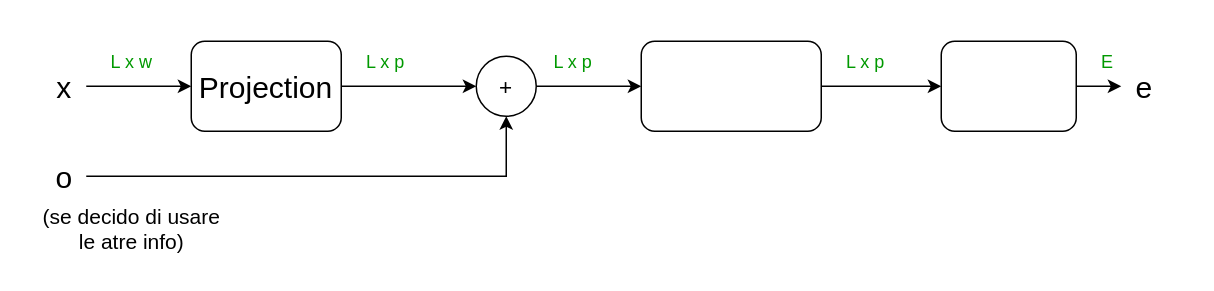
This 1214x291 diagram has some shape labels left out. Each missing label, with the centre of its shape:
"LSTM" goes at point 1008,85.
"Multi head Attention" goes at point 730,85.
